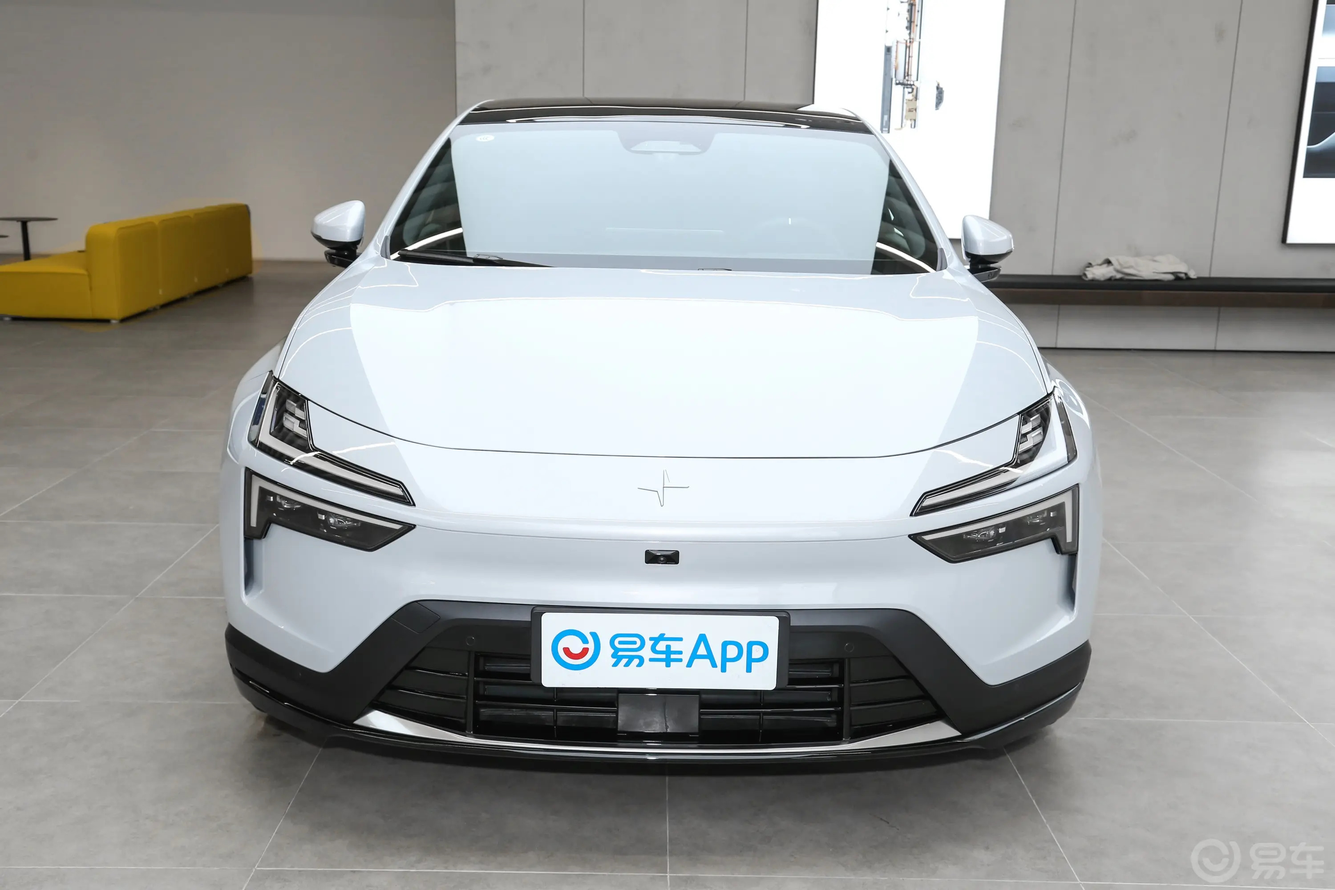Polestar: (638, 469, 689, 506)
